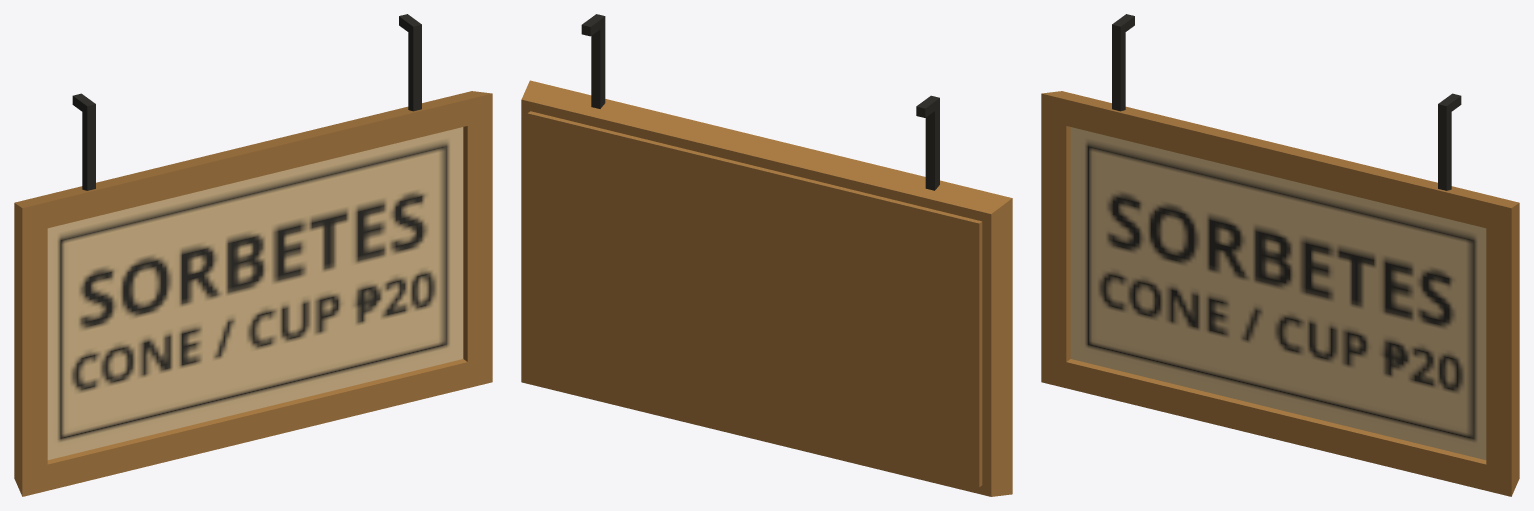
File: SM_Cart_SorbetesSign_01.fbx
3 renders of one model, left to right at view 1: azimuth 30°, elevation 25°; view 2: azimuth 150°, elevation 25°; view 3: azimuth 330°, elevation 25°, orthographic. The views are drawn at different scales.
Parts seen in each view (by area): view 1: SM_Cart_SorbetesSign_01; view 2: SM_Cart_SorbetesSign_01; view 3: SM_Cart_SorbetesSign_01.
Boxes of the visible parts, bbox=[...] form: SM_Cart_SorbetesSign_01: bbox=[14, 14, 492, 496]; SM_Cart_SorbetesSign_01: bbox=[521, 14, 1012, 496]; SM_Cart_SorbetesSign_01: bbox=[1041, 14, 1519, 496].
Size of the model in its own units: 0.375 by 0.2835 by 0.024.
1 material, 1 textured.
